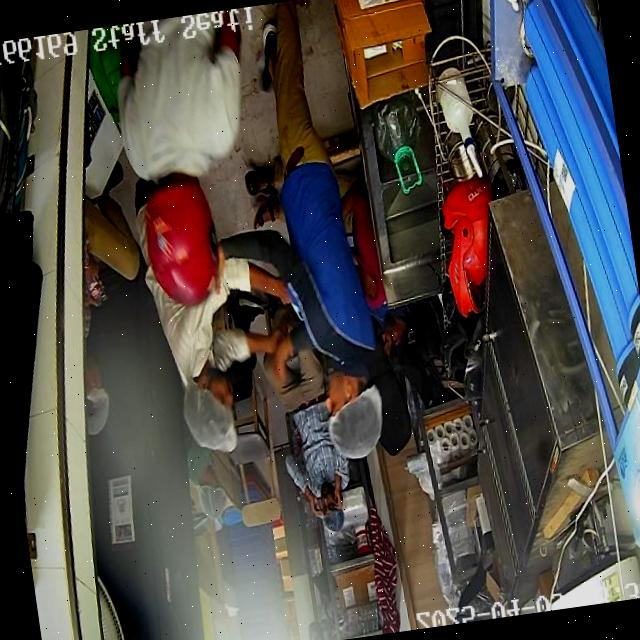helmet: (144, 172, 220, 306), (442, 176, 490, 319)
no_helmet: (325, 372, 383, 460), (183, 369, 239, 451)
